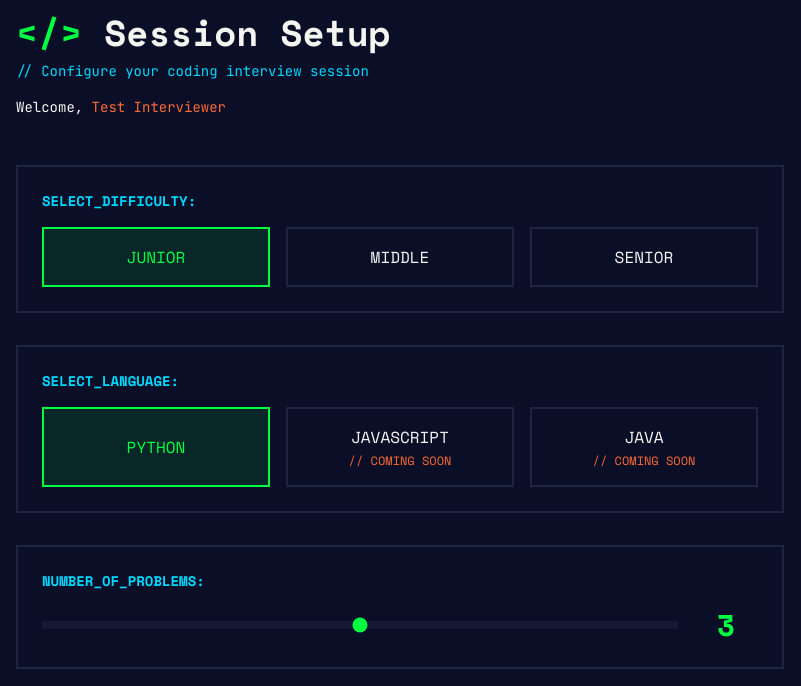
Test: SessionSetup › Number of Problems › should update display when slider moved
Set the slider to "5" at (670, 625), box top-left (42, 621), bottom-right (678, 629)
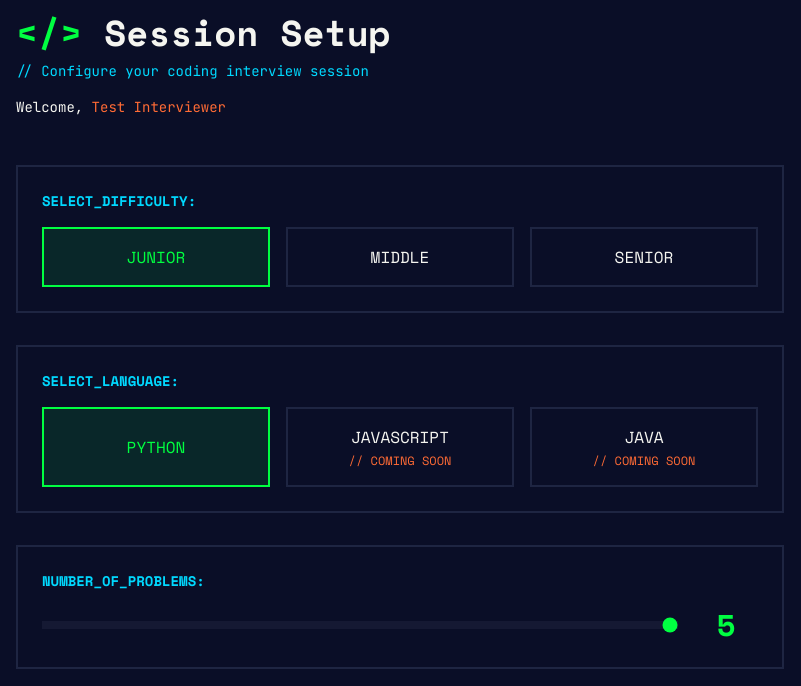
Expected: the text "5" is shown, top-left (717, 602), bottom-right (735, 647)
